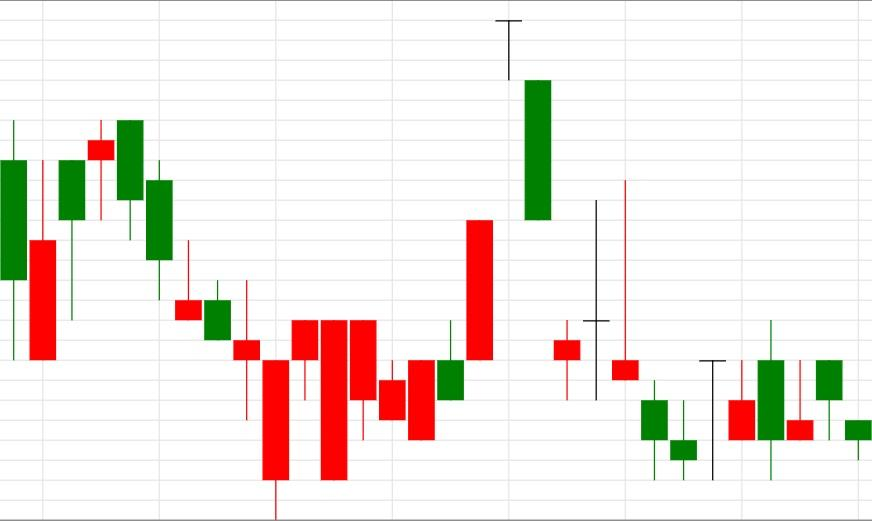bearish_engulfing_fall: (28, 119, 145, 361), (669, 319, 785, 479)
